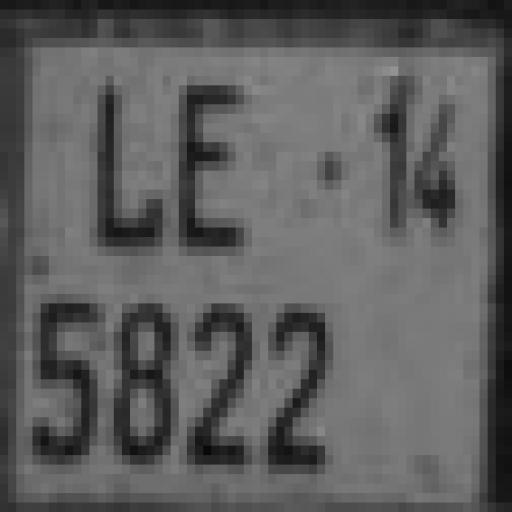2: (277, 296, 355, 469), (188, 299, 262, 476)
5: (31, 298, 100, 458)
8: (108, 300, 176, 464)
E: (181, 73, 254, 258)
L: (78, 83, 170, 254)
